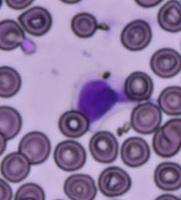L: (70, 73, 132, 129)
